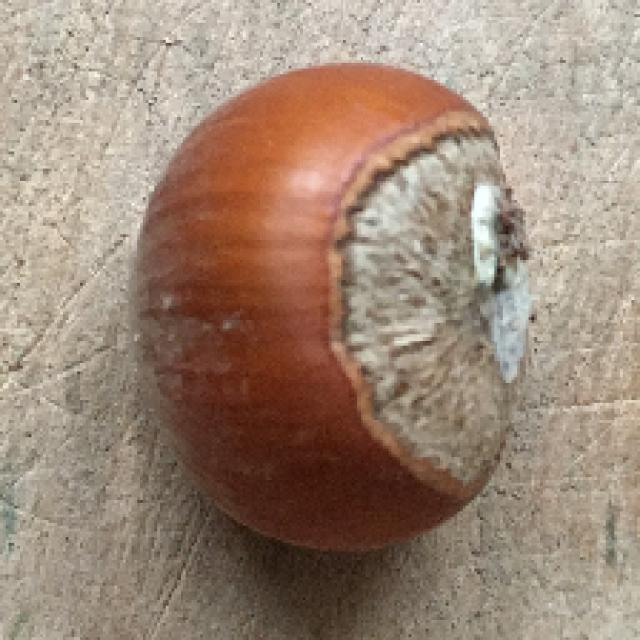QualityHazelnut: (132, 65, 527, 561)
